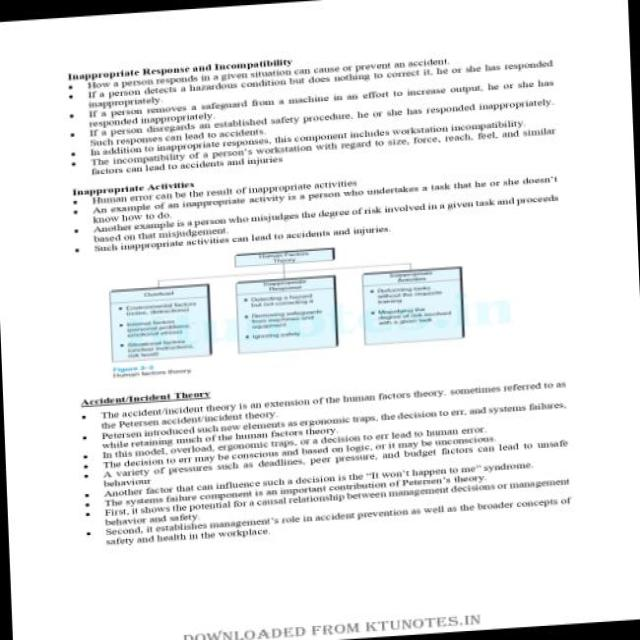Figure Detection - v3 Dataset Version2: (93, 231, 484, 367)
